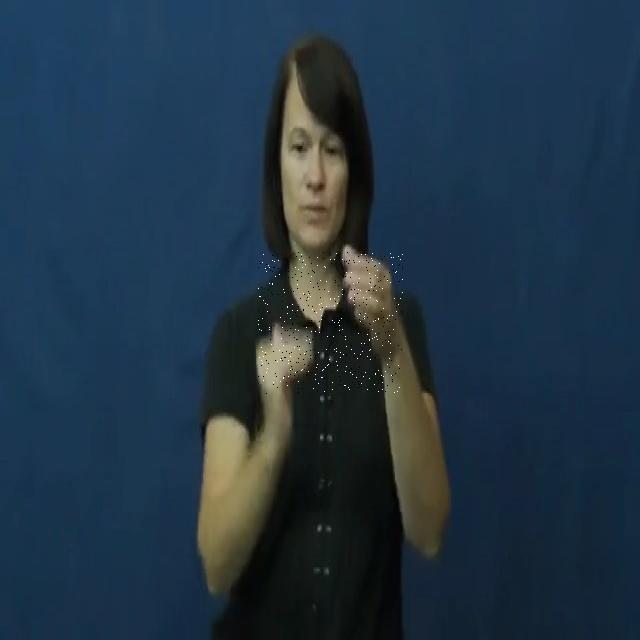refill: (258, 252, 403, 394)
